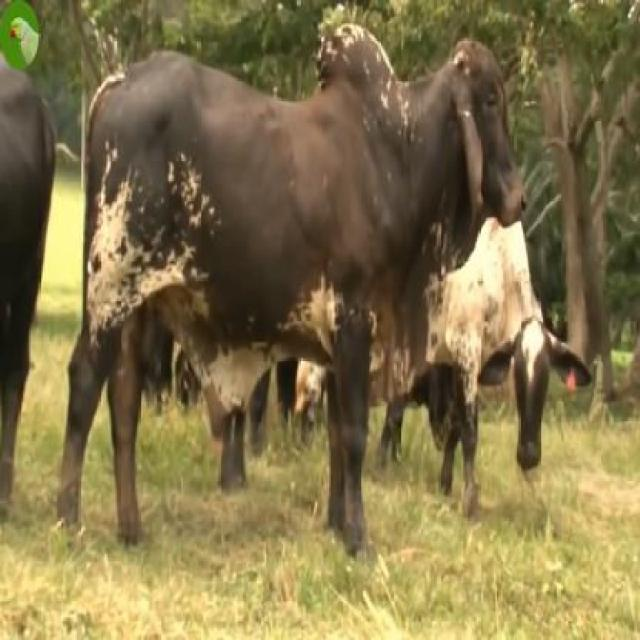Cow: (56, 23, 530, 551)
